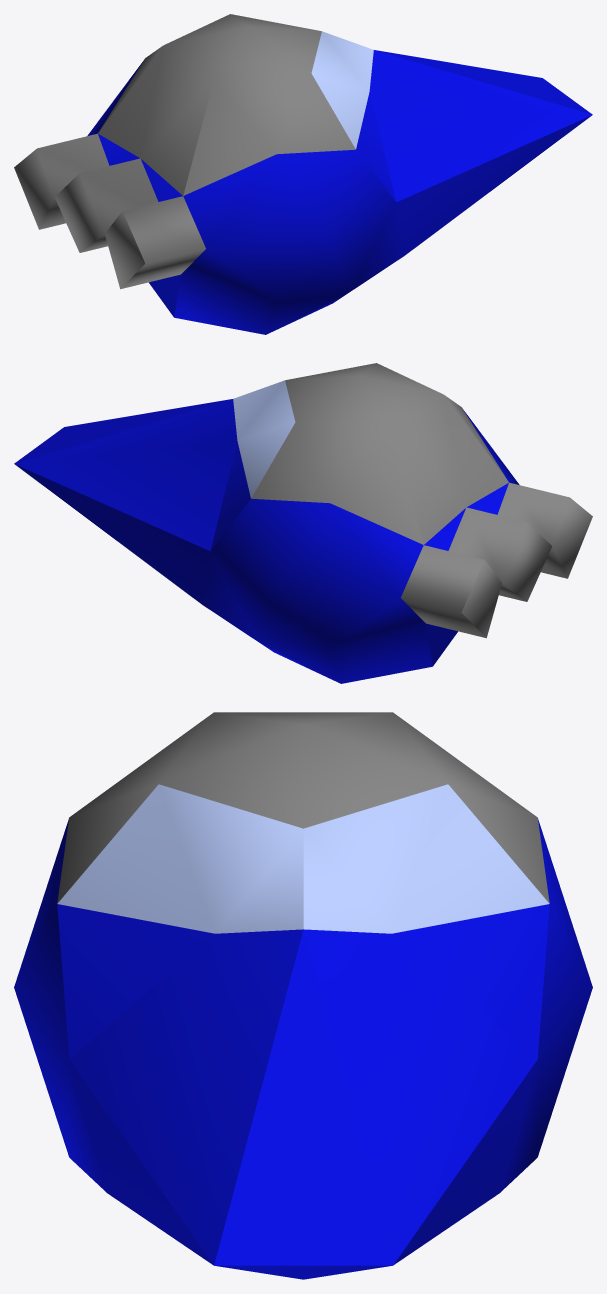
The model's file is EnemySpaceship1.fbx.
3 renders of one model, top to bottom at view 1: azimuth 30°, elevation 25°; view 2: azimuth 150°, elevation 25°; view 3: azimuth 270°, elevation 25°, orthographic. The views are drawn at different scales.
Visible parts, largest first — view 1: Enemy1; view 2: Enemy1; view 3: Enemy1.
Part boxes in pixels (x1,y1,x2,y2): Enemy1: (14, 14, 592, 334); Enemy1: (14, 363, 592, 683); Enemy1: (14, 712, 592, 1279).
Size of the model in its own units: 3210 by 1849 by 1849.
